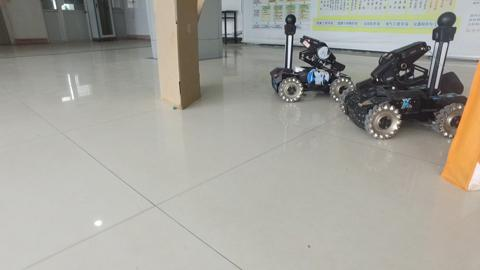chariot: (343, 10, 463, 138), (273, 14, 355, 107)
